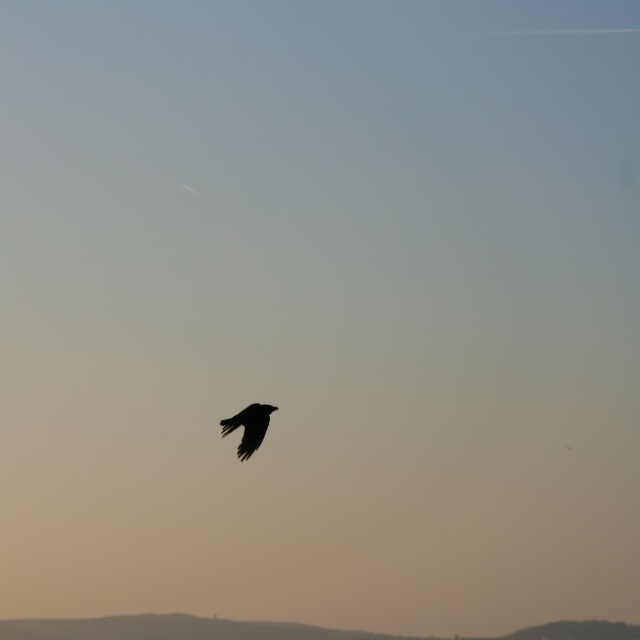Raven: (223, 400, 278, 460)
